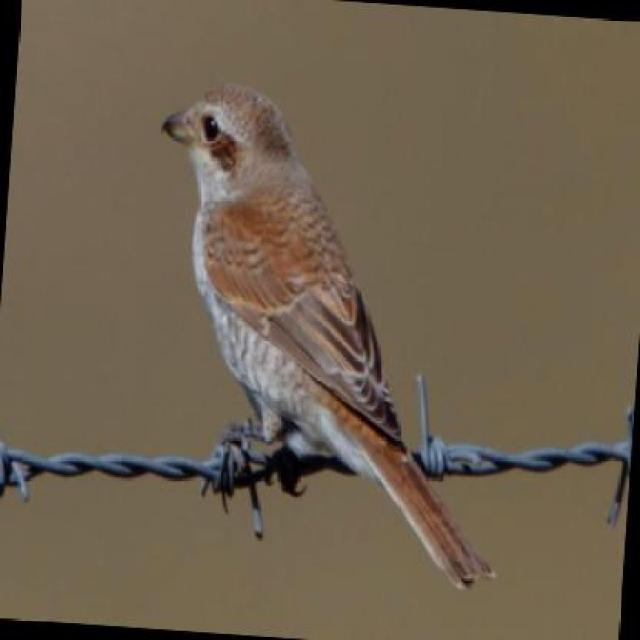Bird: (158, 75, 499, 597)
